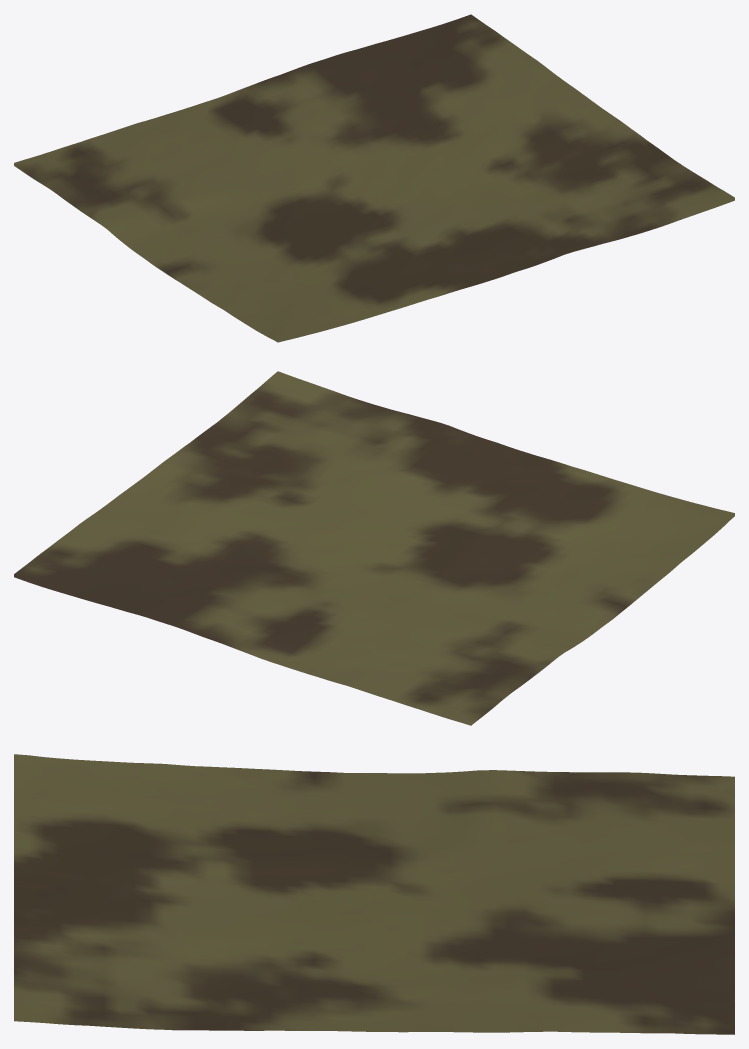
Rendered from land_m_15_11.glb.
The picture shows the model from 3 angles, top to bottom: view 1: azimuth 30°, elevation 25°; view 2: azimuth 150°, elevation 25°; view 3: azimuth 270°, elevation 25°; orthographic projection. The views are drawn at different scales.
Parts seen in each view (by area): view 1: land_m_15_11; view 2: land_m_15_11; view 3: land_m_15_11.
Boxes of the visible parts, x1,y1,x2,y2 form: land_m_15_11: (14, 14, 734, 342); land_m_15_11: (14, 371, 734, 725); land_m_15_11: (14, 754, 734, 1034).
Size of the model in its own units: 960 by 100 by 960.
